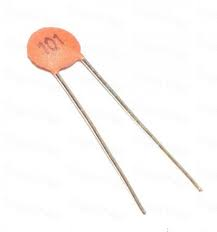ceramic capacitor: (13, 19, 106, 103)
